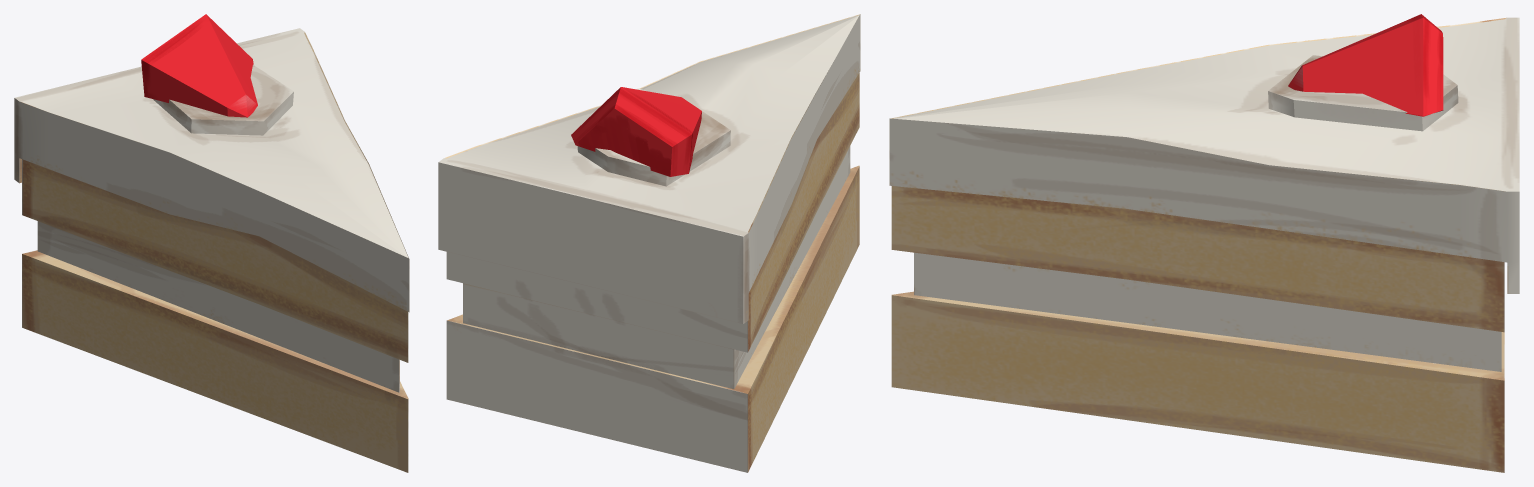
File: Cake.fbx
3 renders of one model, left to right at view 1: azimuth 30°, elevation 25°; view 2: azimuth 150°, elevation 25°; view 3: azimuth 270°, elevation 25°, orthographic. The views are drawn at different scales.
Parts seen in each view (by area): view 1: Cake, Strawberry; view 2: Cake, Strawberry; view 3: Cake, Strawberry.
Part boxes in pixels (bbox=[...]): Cake: bbox=[14, 28, 409, 472]; Strawberry: bbox=[141, 14, 257, 117]; Cake: bbox=[438, 14, 860, 472]; Strawberry: bbox=[571, 87, 701, 176]; Cake: bbox=[889, 17, 1519, 472]; Strawberry: bbox=[1288, 14, 1443, 116].
Size of the model in its own units: 4.7 by 4.73 by 7.2.
